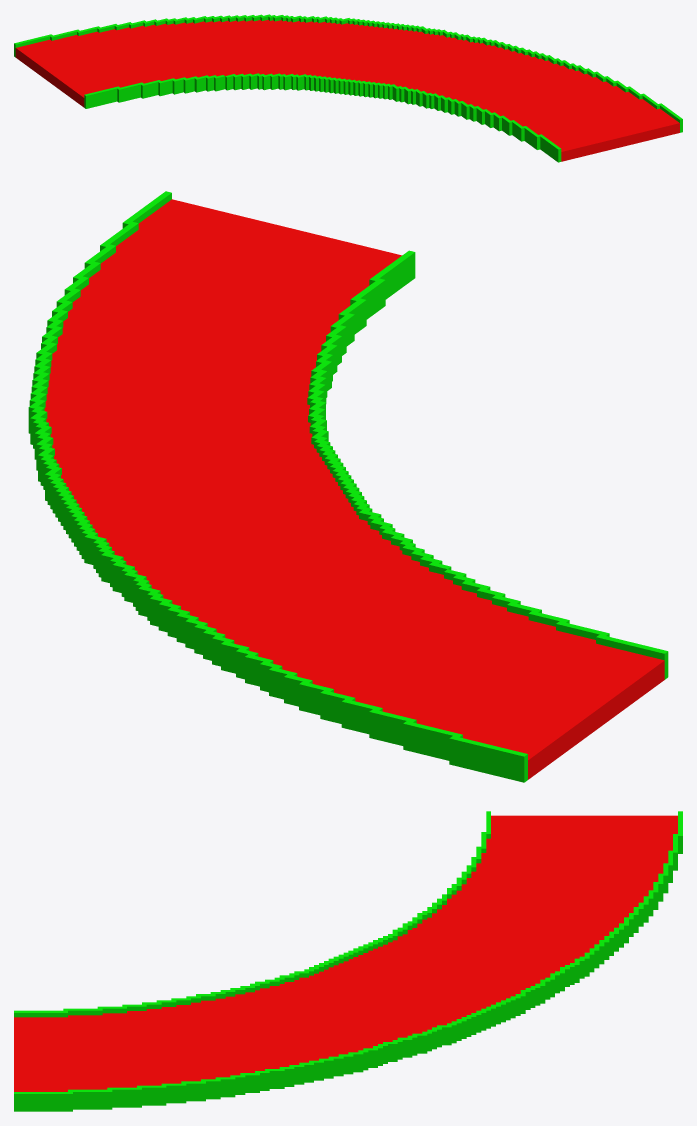
Rendered from RoundaboutBigCornerHighSide.obj.
The picture shows the model from 3 angles, top to bottom: view 1: azimuth 30°, elevation 25°; view 2: azimuth 150°, elevation 25°; view 3: azimuth 270°, elevation 25°; orthographic projection. The views are drawn at different scales.
Size of the model in its own units: 13.6 by 0.4 by 13.6.
Materials: 1 (1 with a texture image).
